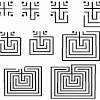maze: (50, 63, 97, 99), (3, 66, 42, 97), (62, 31, 100, 60), (29, 37, 54, 55), (1, 38, 21, 55)
